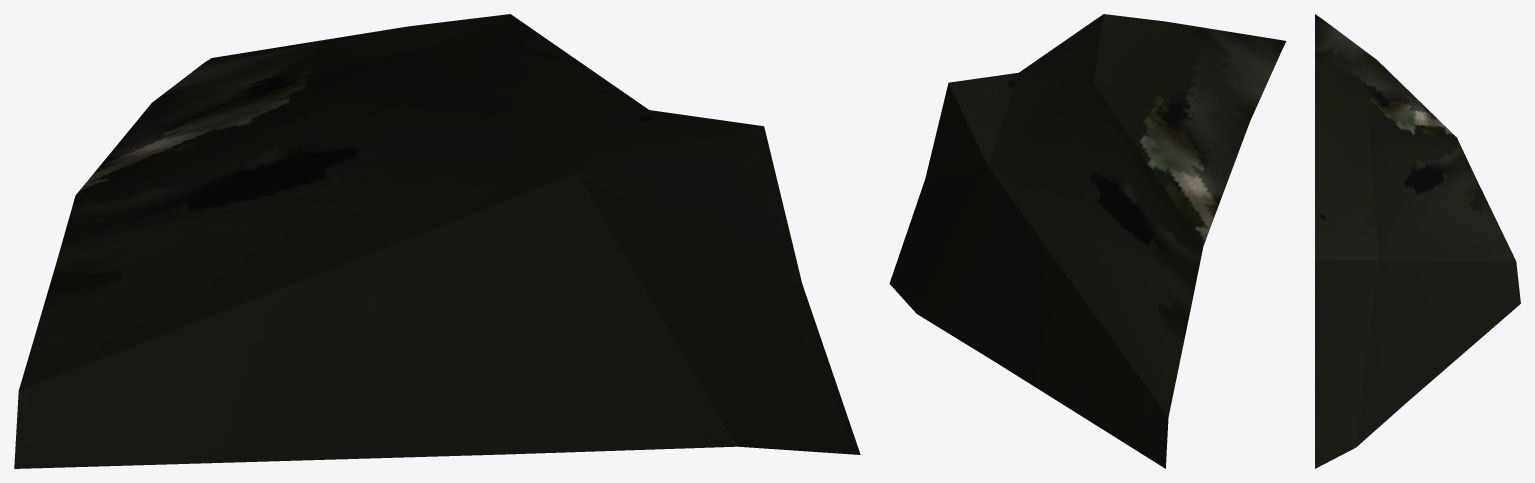
The picture shows the model from 3 angles, left to right: view 1: azimuth 30°, elevation 25°; view 2: azimuth 150°, elevation 25°; view 3: azimuth 270°, elevation 25°; orthographic projection. The views are drawn at different scales.
Bounding box in the file's own units: 0.5354 × 0.4377 × 0.2819.
Materials: 1 (1 with a texture image).
